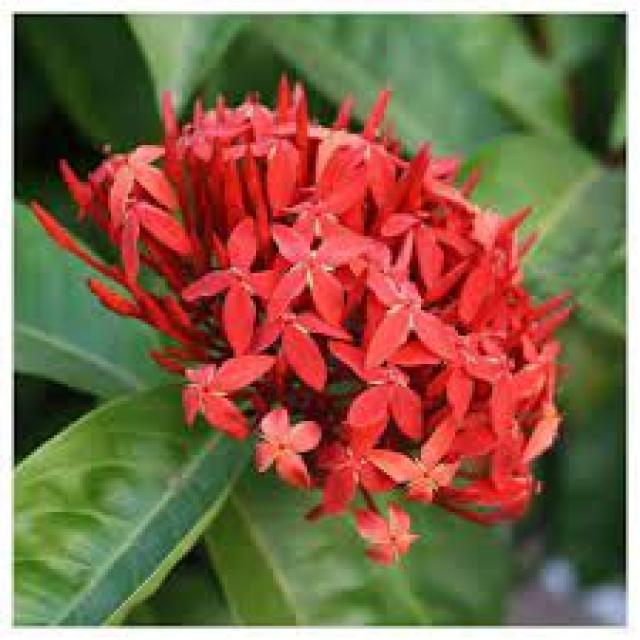Chinese-Ixora: (31, 71, 583, 566)
